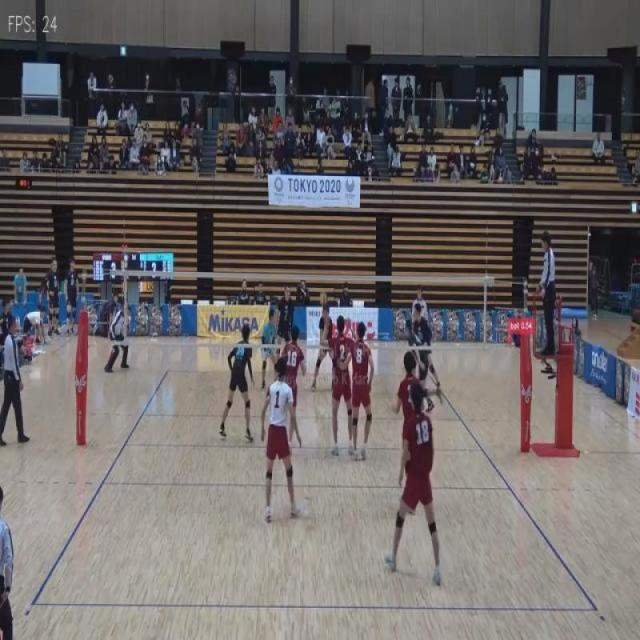volleyball: (319, 292, 328, 306)
